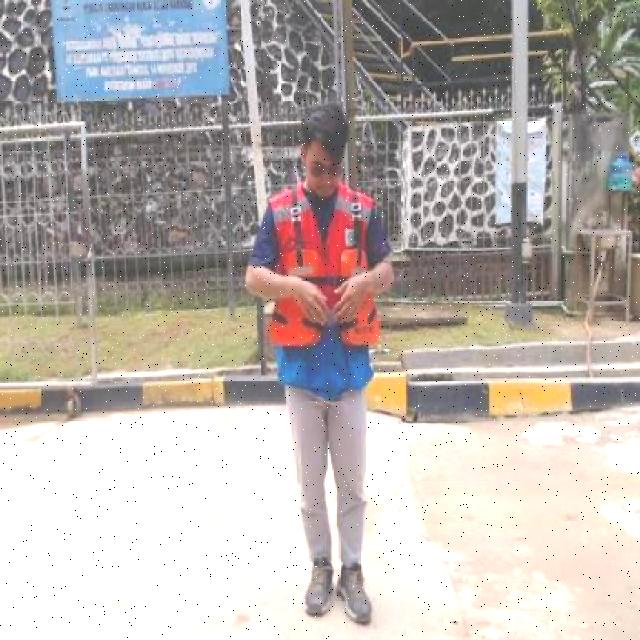Boots: (335, 553, 377, 630), (300, 544, 338, 620)
Mask: (270, 182, 388, 348)
